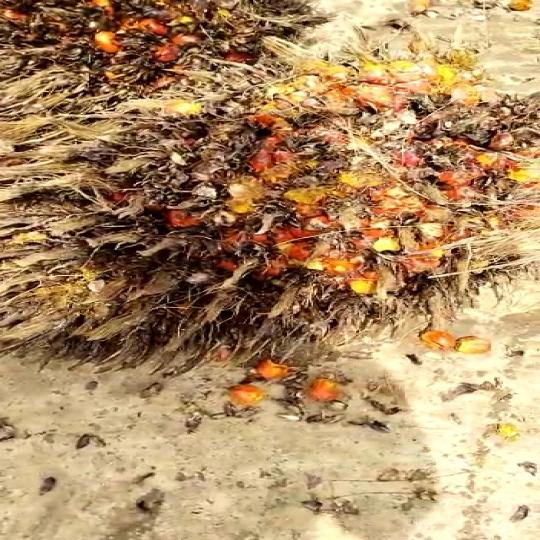terlalu masak: (0, 39, 535, 367)
